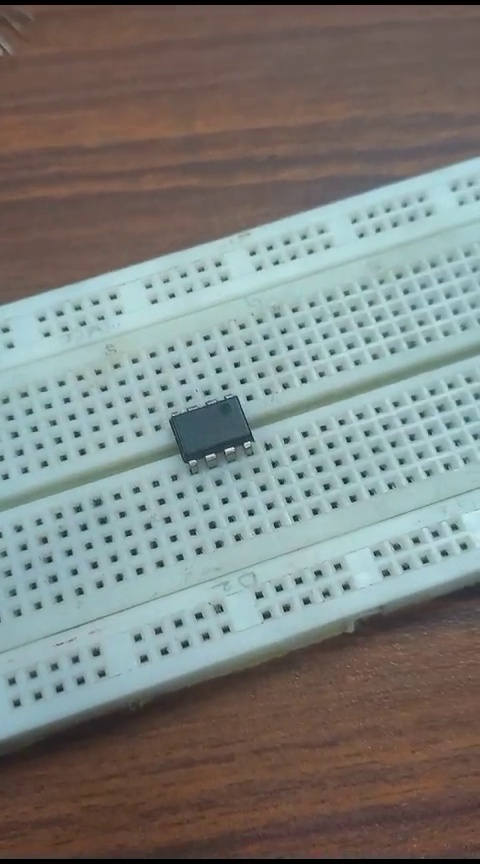IC: (158, 388, 270, 467)
